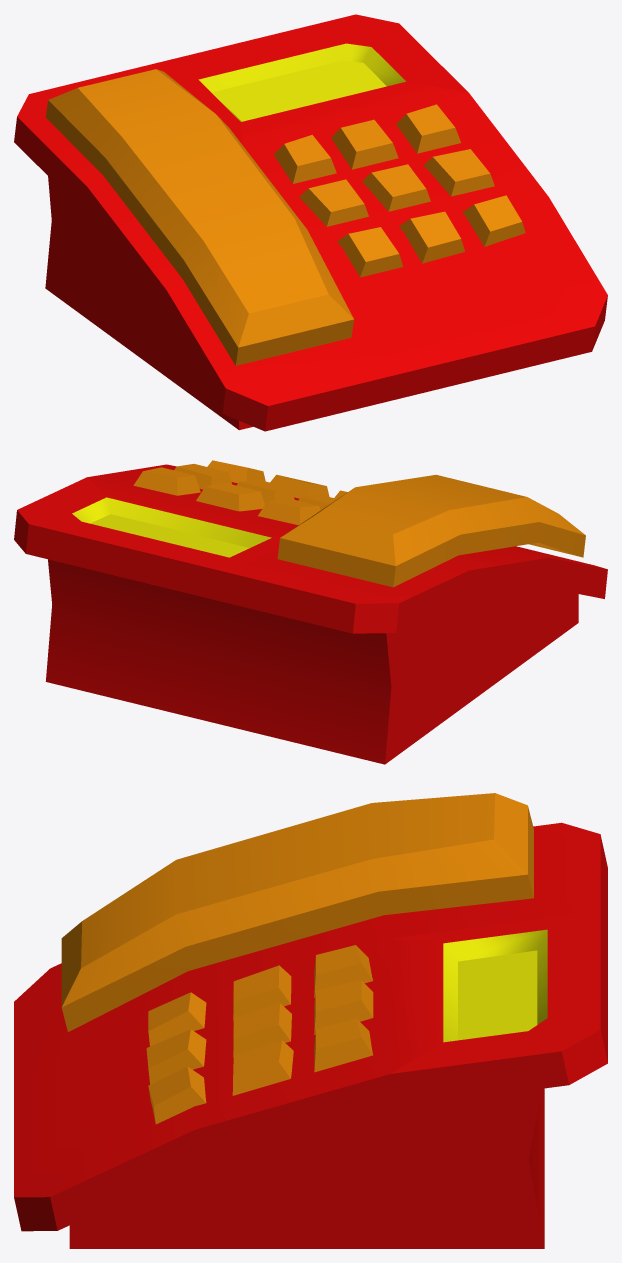
File: LR_Telephone.fbx
3 renders of one model, top to bottom at view 1: azimuth 30°, elevation 25°; view 2: azimuth 150°, elevation 25°; view 3: azimuth 270°, elevation 25°, orthographic. The views are drawn at different scales.
Visible parts, largest first — view 1: LR_Telephone; view 2: LR_Telephone; view 3: LR_Telephone.
Part boxes in pixels (left/top/right/bottom): LR_Telephone: left=14, top=14, right=607, bottom=431; LR_Telephone: left=14, top=460, right=607, bottom=764; LR_Telephone: left=14, top=793, right=607, bottom=1248.
Bounding box in the file's own units: 32.95 × 17.5 × 36.18.
